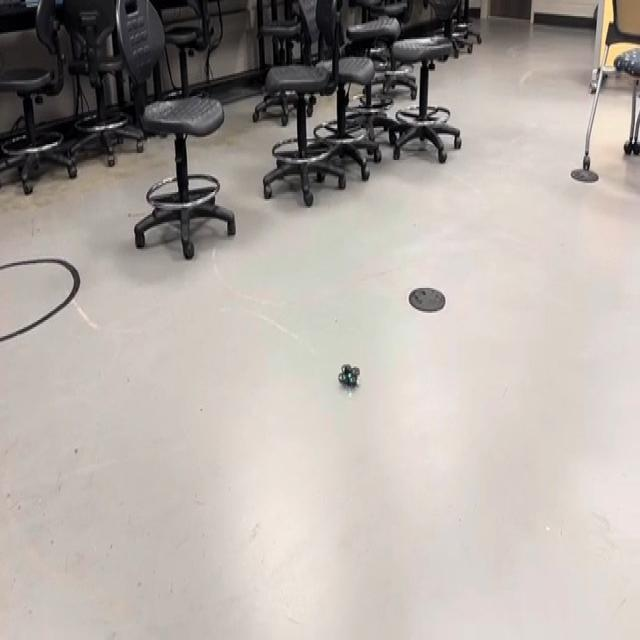drone: (332, 348, 369, 406)
